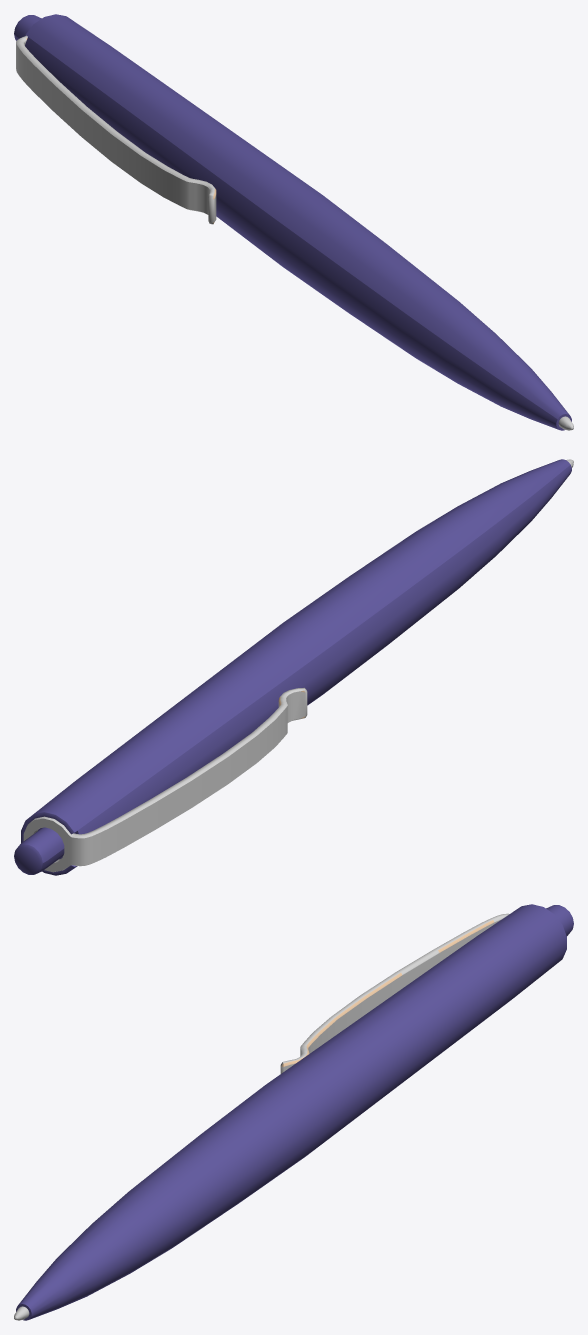
The model's file is 만년필.fbx.
The picture shows the model from 3 angles, top to bottom: view 1: azimuth 30°, elevation 25°; view 2: azimuth 150°, elevation 25°; view 3: azimuth 330°, elevation 25°; orthographic projection.
Parts seen in each view (by area): view 1: pen_ with_button; view 2: pen_ with_button; view 3: pen_ with_button.
Part boxes in pixels (x1=…): pen_ with_button: x1=14, y1=14, x2=573, y2=430; pen_ with_button: x1=14, y1=459, x2=573, y2=875; pen_ with_button: x1=14, y1=904, x2=573, y2=1320.
Size of the model in its own units: 158 by 118 by 1591.
